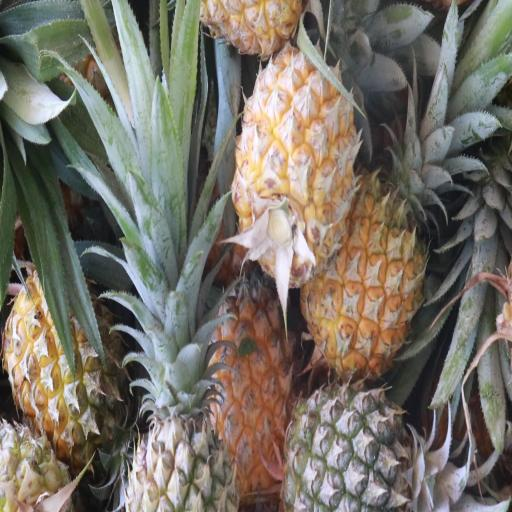------------------------------: (5, 260, 125, 452)
Pineapple - v8 v1: (234, 45, 353, 281), (303, 168, 423, 368), (207, 263, 296, 490)
